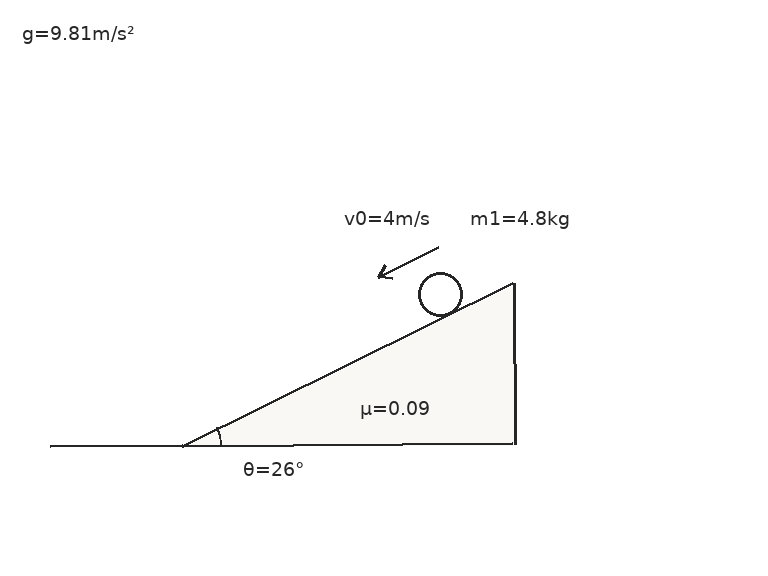ball: (416, 270, 464, 318)
ramp: (179, 281, 516, 447)
